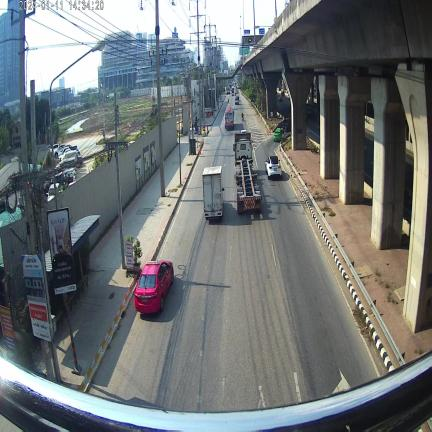bus: (225, 106, 234, 130)
car: (265, 156, 282, 178)
pickup: (235, 96, 239, 105)
taxi: (134, 260, 174, 312), (273, 128, 283, 142)
truck: (233, 132, 261, 213), (235, 158, 261, 213), (202, 166, 224, 220), (233, 132, 252, 160), (235, 87, 238, 94)
